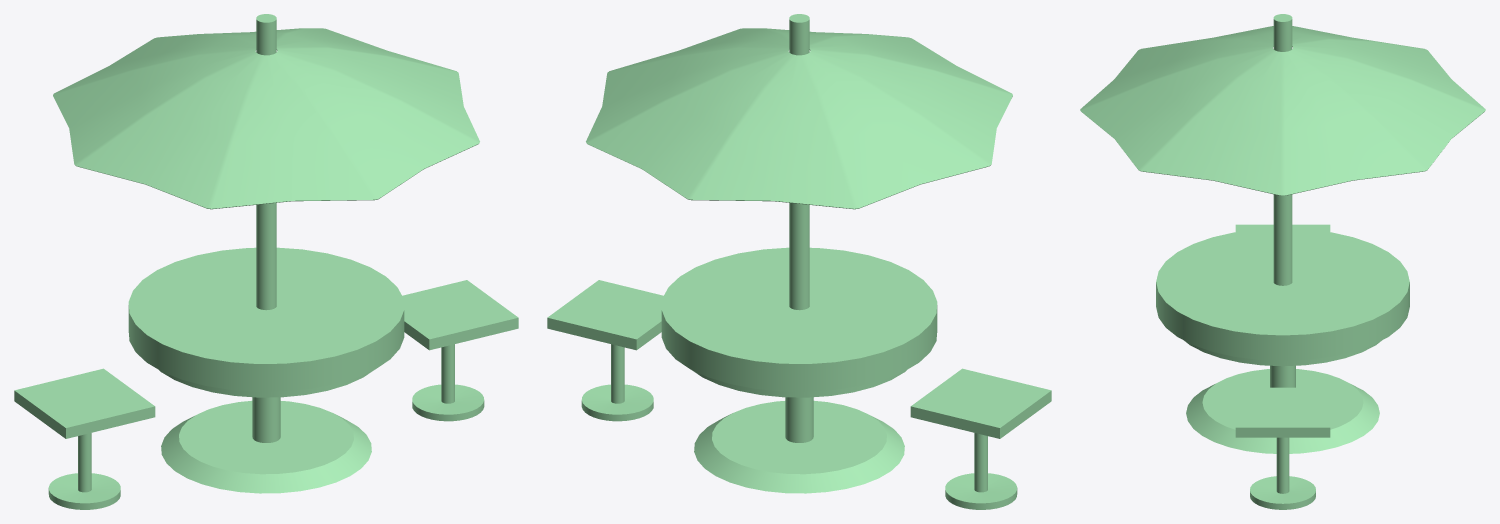
The model's file is table2_01.fbx.
3 renders of one model, left to right at view 1: azimuth 30°, elevation 25°; view 2: azimuth 150°, elevation 25°; view 3: azimuth 270°, elevation 25°, orthographic. The views are drawn at different scales.
Parts seen in each view (by area): view 1: table_03_l; view 2: table_03_l; view 3: table_03_l.
Part boxes in pixels (x1,y1,x2,y2): table_03_l: [14, 14, 518, 509]; table_03_l: [547, 14, 1051, 509]; table_03_l: [1080, 14, 1485, 509].
Size of the model in its own units: 987 by 900 by 833.
